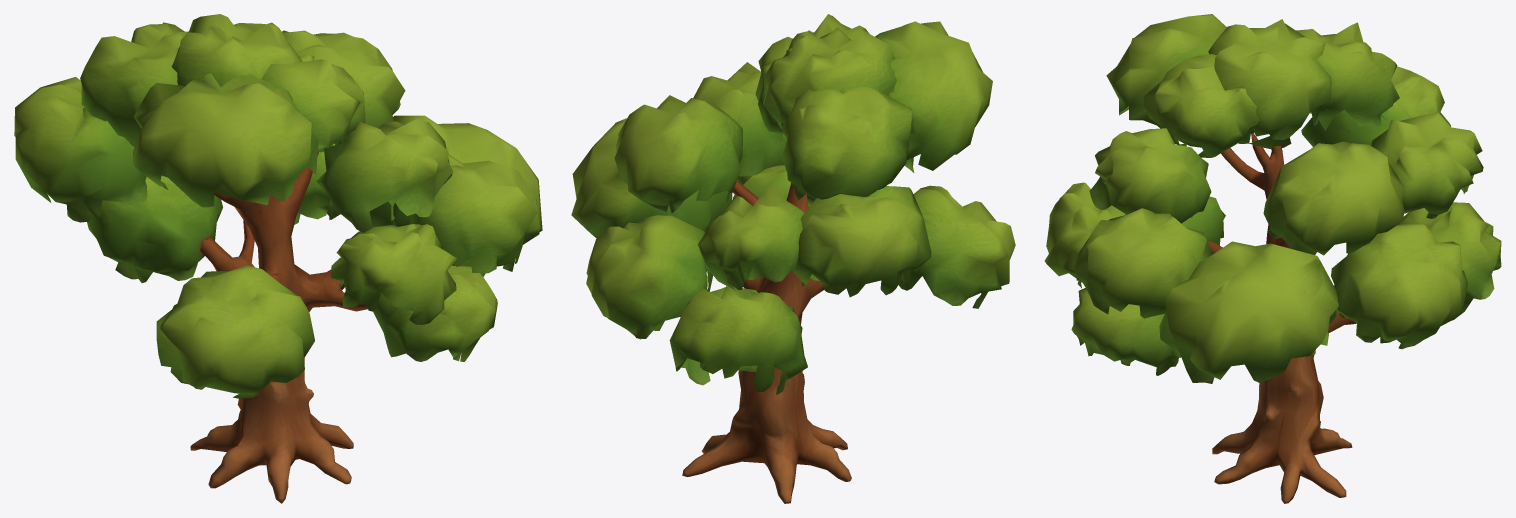
Rendered from 1792577973355-arvore.glb.
3 renders of one model, left to right at view 1: azimuth 30°, elevation 25°; view 2: azimuth 150°, elevation 25°; view 3: azimuth 270°, elevation 25°, orthographic. The views are drawn at different scales.
Visible parts, largest first — view 1: tripo_node_07cafe7c-612c-49c0-9cae-df2e0886a20f; view 2: tripo_node_07cafe7c-612c-49c0-9cae-df2e0886a20f; view 3: tripo_node_07cafe7c-612c-49c0-9cae-df2e0886a20f.
Boxes of the visible parts, box(x1,y1,x2,y2) form: tripo_node_07cafe7c-612c-49c0-9cae-df2e0886a20f: box(14, 14, 542, 503); tripo_node_07cafe7c-612c-49c0-9cae-df2e0886a20f: box(571, 14, 1015, 503); tripo_node_07cafe7c-612c-49c0-9cae-df2e0886a20f: box(1044, 14, 1501, 503).
Size of the model in its own units: 0.9707 by 0.998 by 0.9941.
1 material, 1 textured.
